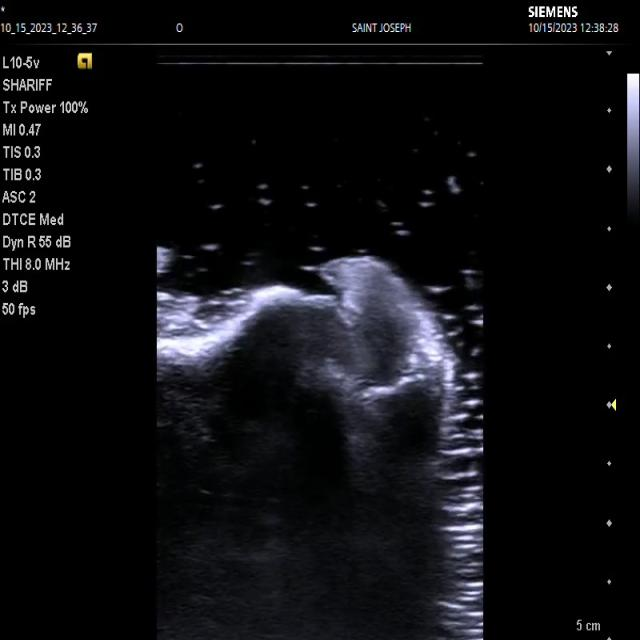tissue: (156, 256, 454, 640)
